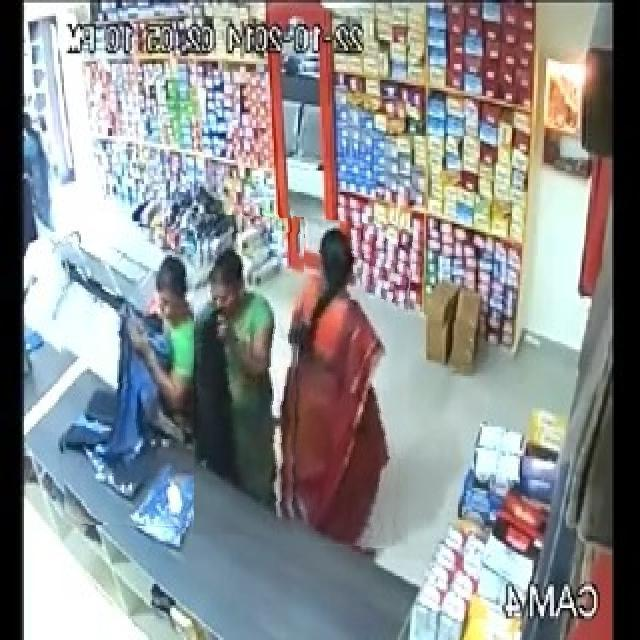Normal: (271, 219, 408, 546), (58, 228, 194, 528), (193, 215, 301, 535)
